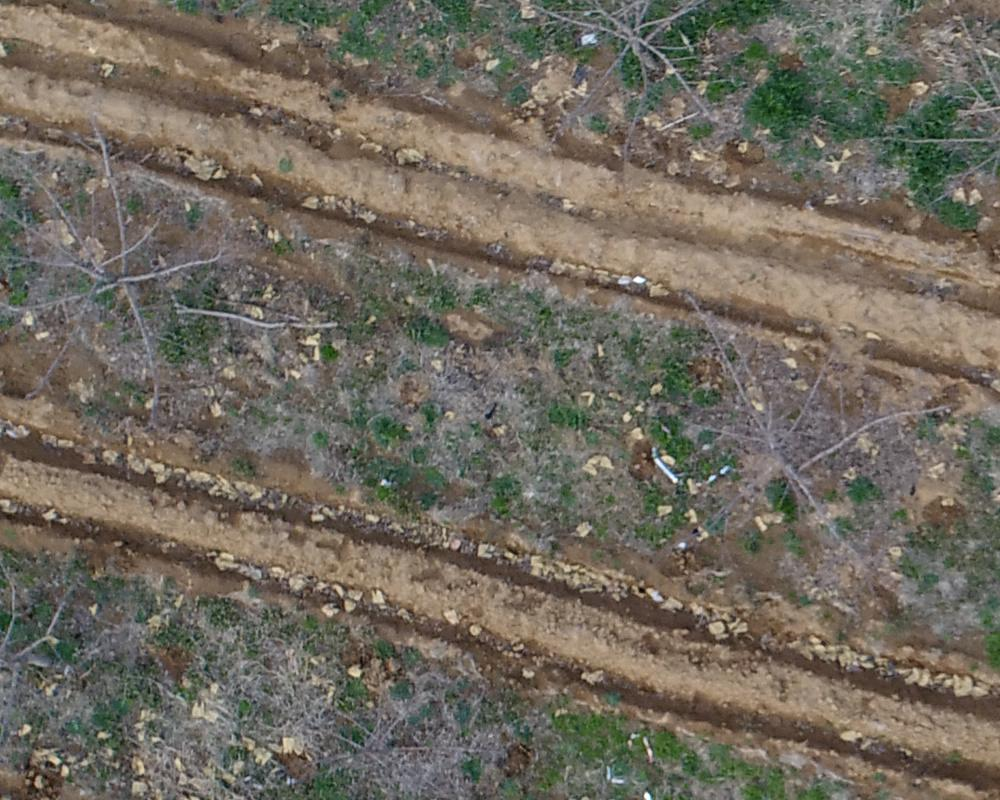apple: (677, 297, 942, 557), (10, 138, 240, 400), (509, 10, 742, 158), (10, 552, 107, 768), (892, 18, 990, 220)
